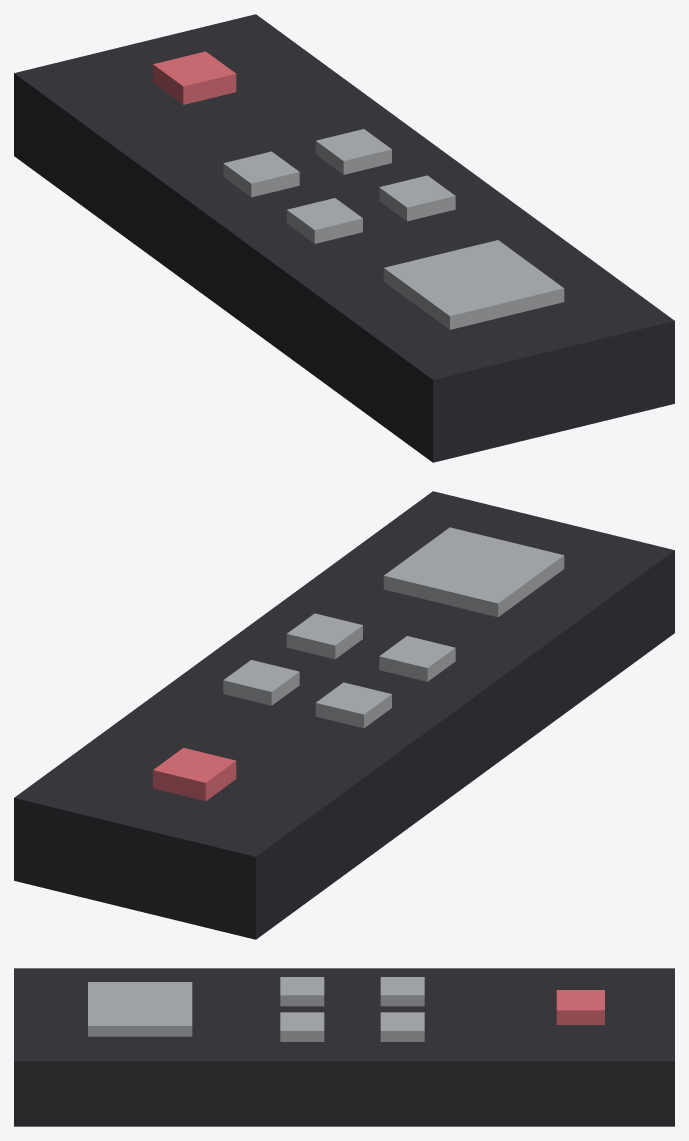
The model's file is tv-remote.gltf.
3 renders of one model, top to bottom at view 1: azimuth 30°, elevation 25°; view 2: azimuth 150°, elevation 25°; view 3: azimuth 270°, elevation 25°, orthographic. The views are drawn at different scales.
Parts seen in each view (by area): view 1: body, dpad, power, btn_1, btn_2, btn_3, btn_4; view 2: body, dpad, power, btn_3, btn_1, btn_2, btn_4; view 3: body, dpad, power, btn_2, btn_4, btn_1, btn_3.
Part boxes in pixels (box(x1,y1,x2,y2)): body: box(14, 14, 674, 462); dpad: box(383, 240, 564, 329); power: box(153, 51, 236, 104); btn_1: box(223, 151, 299, 197); btn_2: box(315, 129, 391, 174); btn_3: box(286, 198, 362, 243); btn_4: box(379, 175, 455, 221); body: box(14, 491, 674, 939); dpad: box(383, 527, 564, 617); power: box(153, 747, 236, 801); btn_3: box(379, 636, 455, 681); btn_1: box(315, 682, 391, 728); btn_2: box(223, 660, 299, 705); btn_4: box(286, 613, 362, 659); body: box(14, 968, 674, 1126); dpad: box(88, 982, 192, 1036); power: box(556, 990, 604, 1024); btn_2: box(380, 1012, 424, 1041); btn_4: box(280, 1012, 324, 1041); btn_1: box(380, 977, 424, 1006); btn_3: box(280, 977, 324, 1006).
Size of the model in its own units: 0.00344 by 0.00137 by 0.0103.
